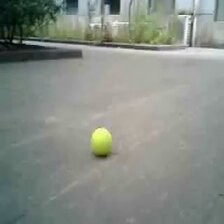tennis: (89, 127, 112, 154)
